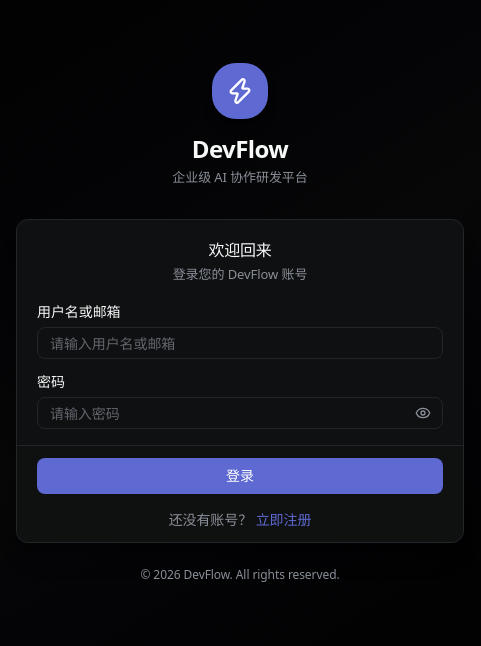
Test: LoginPage MFA flow › clears a failed MFA challenge and retries with password credentials only
Later steps or results of the test are not shown.
Type "developer" into the field labelled "用户名或邮箱".
click(240, 343); type("developer")  # box [37, 327, 443, 359]
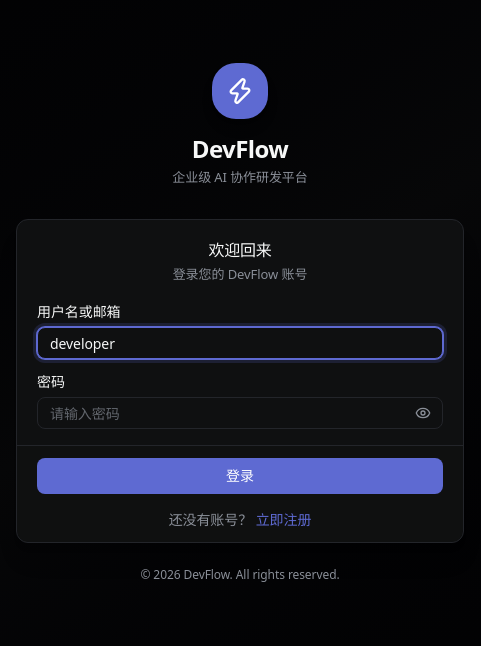
Type "password" into the password field labelled "密码".
click(240, 413); type("password")  # box [37, 397, 443, 429]
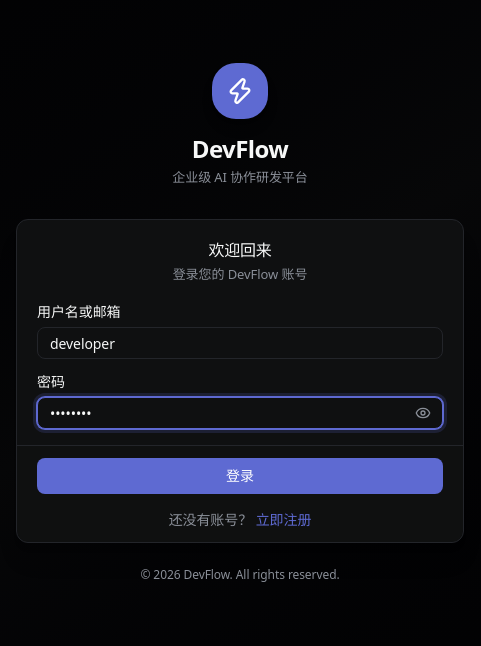
Click the button "登录".
click(240, 476)  # box [37, 458, 443, 494]
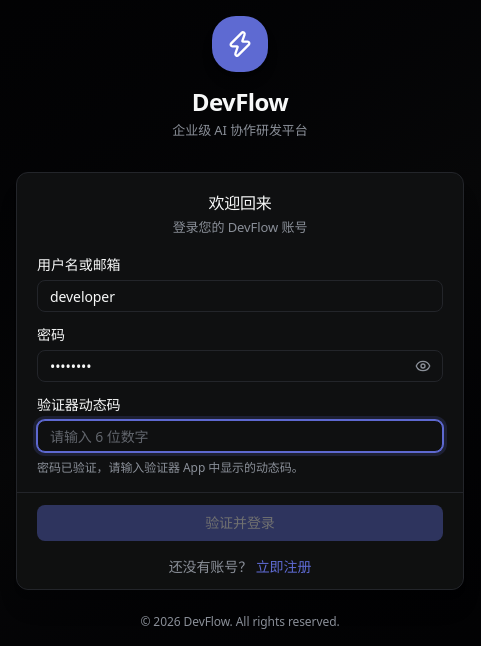
Type "123456" into the field labelled "验证器动态码".
click(240, 436); type("123456")  # box [37, 420, 443, 452]
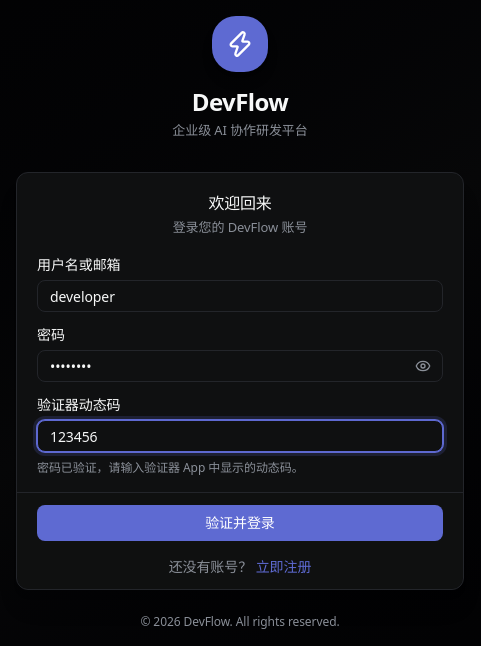
Click the button "验证并登录".
click(240, 523)  # box [37, 505, 443, 541]
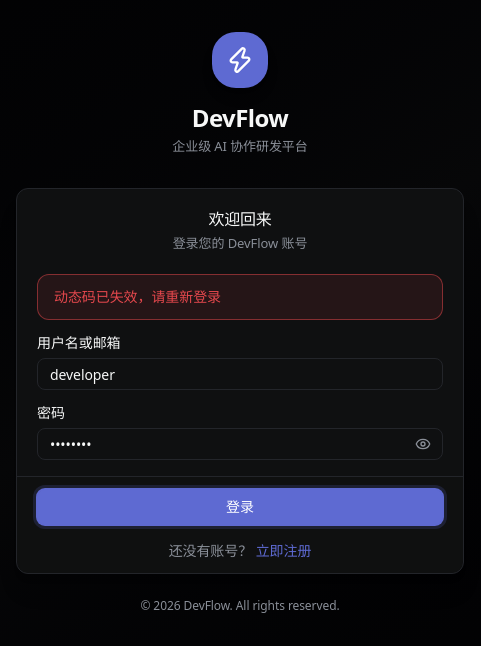
Expected: the button "登录" is enabled, [37, 489, 443, 525]
Expected: the text "动态码已失效，请重新登录" is shown, [37, 274, 443, 320]
Expected: the label labelled "验证器动态码" is gone
